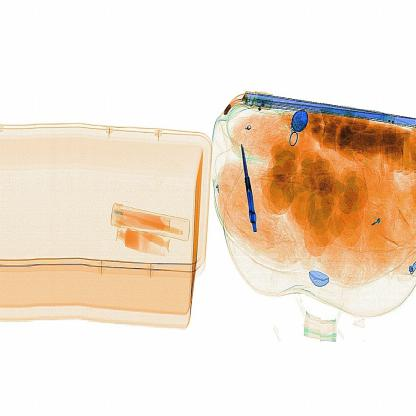gun: (234, 127, 268, 244)
